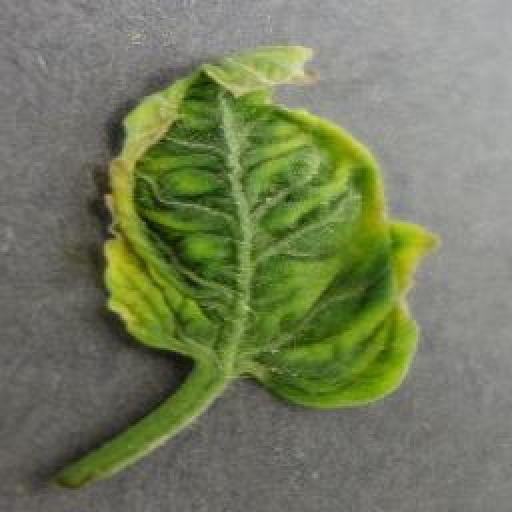Yellow Leaf Curl Virus: (95, 41, 442, 412)
